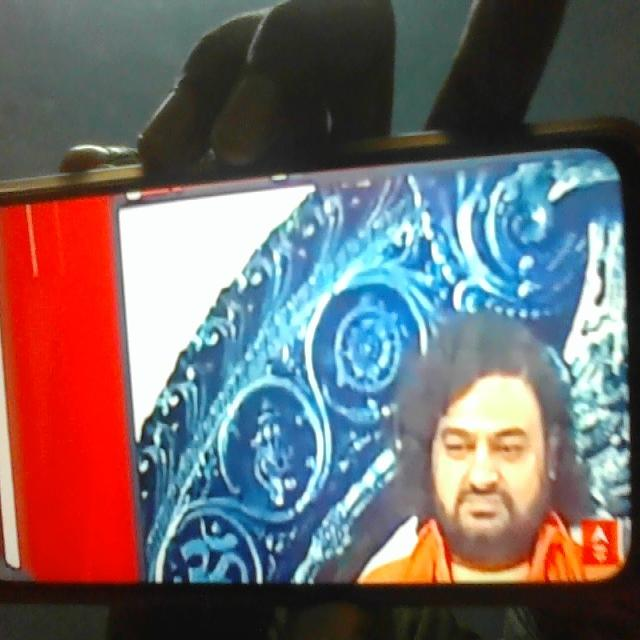fake: (427, 322, 554, 562)
